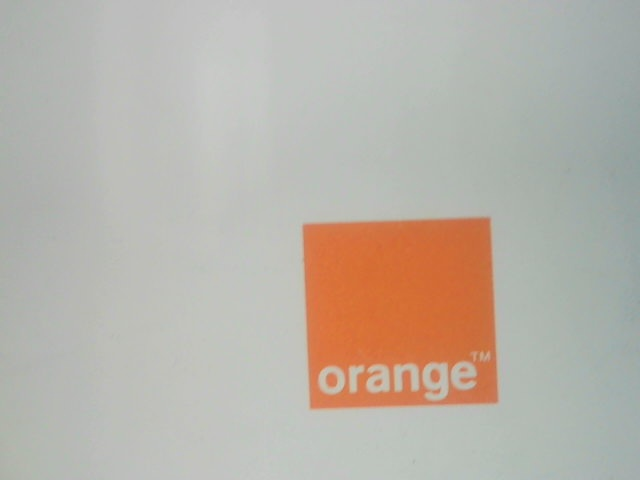AR_Orange: (295, 214, 514, 410)
